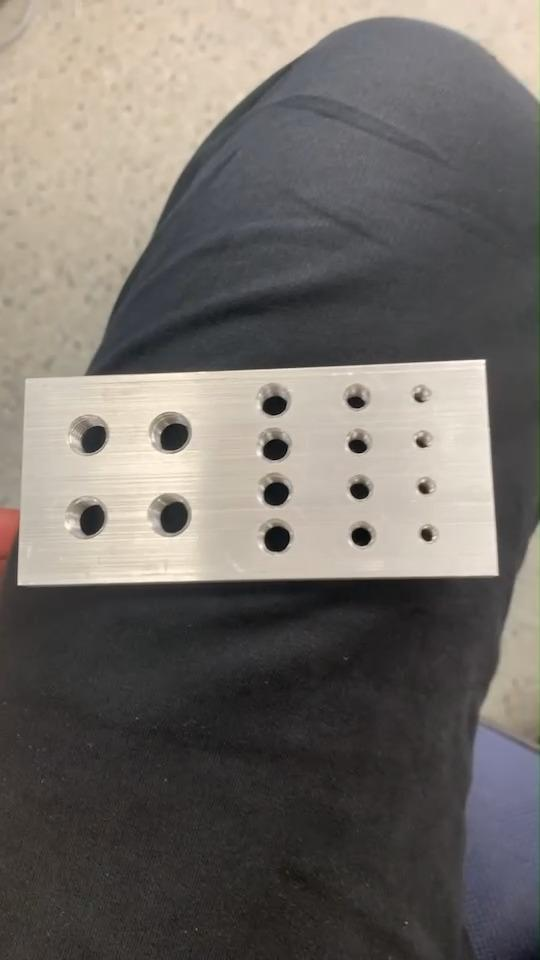hole: (147, 410, 195, 456), (146, 491, 192, 537), (64, 494, 108, 539), (66, 412, 110, 456), (255, 516, 294, 558), (253, 471, 293, 508), (252, 382, 293, 418), (255, 429, 296, 465), (338, 381, 373, 414), (344, 520, 375, 550), (344, 474, 376, 503), (344, 428, 374, 458), (416, 523, 441, 548), (410, 383, 433, 406), (414, 474, 436, 498), (412, 430, 434, 452)
